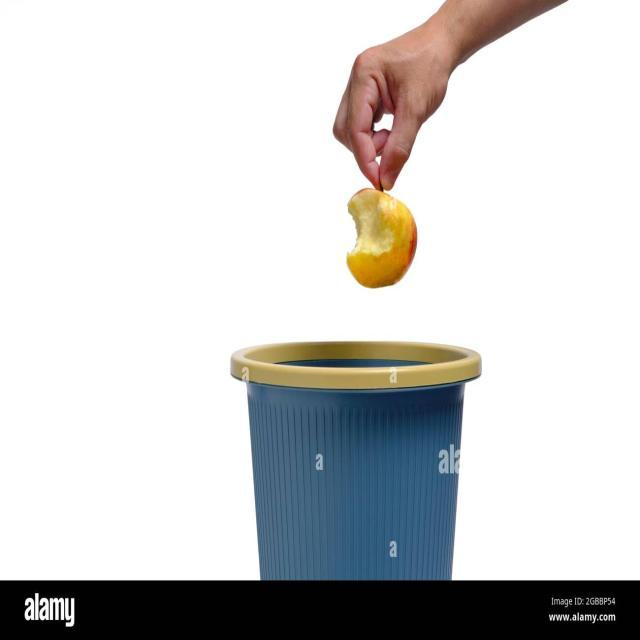Dry: (230, 340, 482, 580), (333, 0, 569, 191)
Wet: (346, 188, 418, 289)
